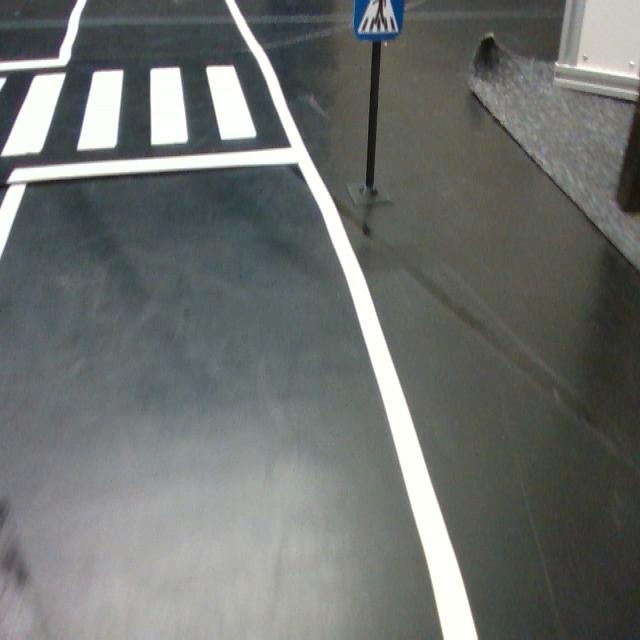crosswalk-sign: (353, 0, 405, 42)
